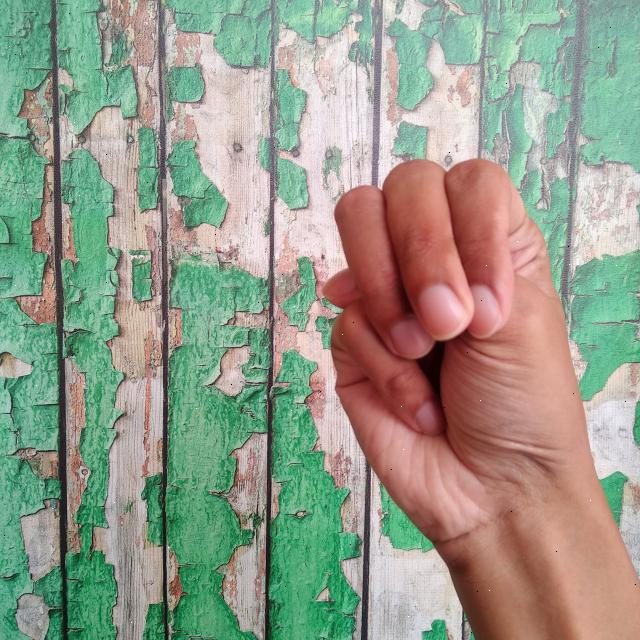M: (315, 153, 640, 640)
